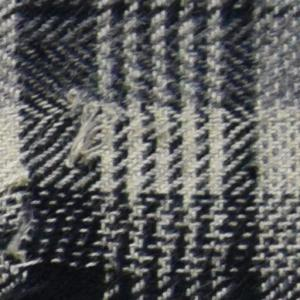Damage: (1, 166, 47, 300), (63, 81, 117, 185)
